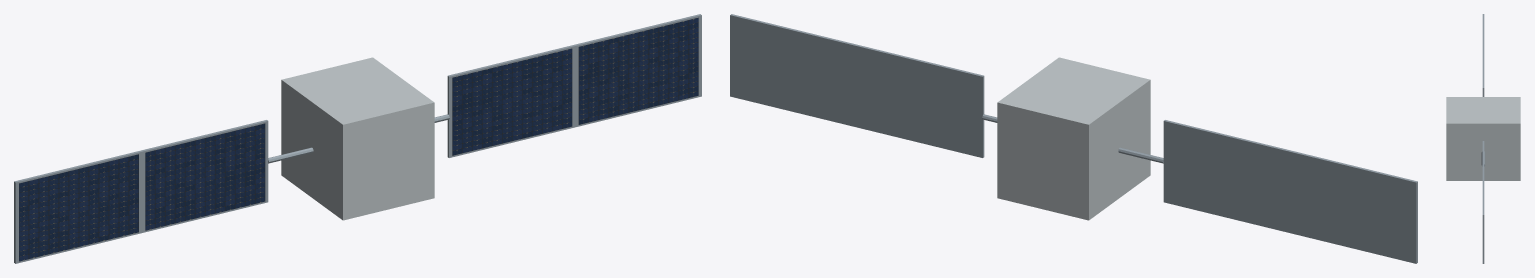
The model's file is ref-jackal-59127.glb.
3 renders of one model, left to right at view 1: azimuth 30°, elevation 25°; view 2: azimuth 150°, elevation 25°; view 3: azimuth 270°, elevation 25°, orthographic. The views are drawn at different scales.
Visible parts, largest first — view 1: Photovoltaic laminates (×4), Spacecraft body, Array frame (×4); view 2: Array frame (×4), Spacecraft body; view 3: Spacecraft body, Array frame (×4), Solar array drive.
Boxes of the visible parts, x1=… form: Photovoltaic laminates (×4): x1=19, y1=17, x2=698, y2=261; Spacecraft body: x1=281, y1=57, x2=434, y2=220; Array frame (×4): x1=14, y1=14, x2=701, y2=263; Array frame (×4): x1=730, y1=14, x2=1417, y2=263; Spacecraft body: x1=997, y1=57, x2=1150, y2=220; Spacecraft body: x1=1446, y1=97, x2=1520, y2=180; Array frame (×4): x1=1482, y1=14, x2=1484, y2=263; Solar array drive: x1=1481, y1=151, x2=1485, y2=166.
Size of the model in its own units: 4.5 by 0.6 by 0.7.
3 materials, 1 textured.
